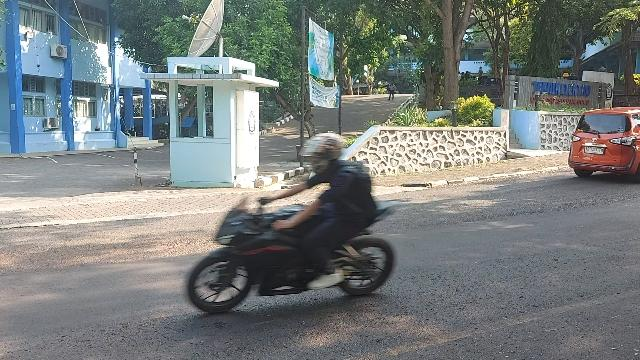helm: (301, 134, 346, 175)
motor: (189, 198, 397, 316)
